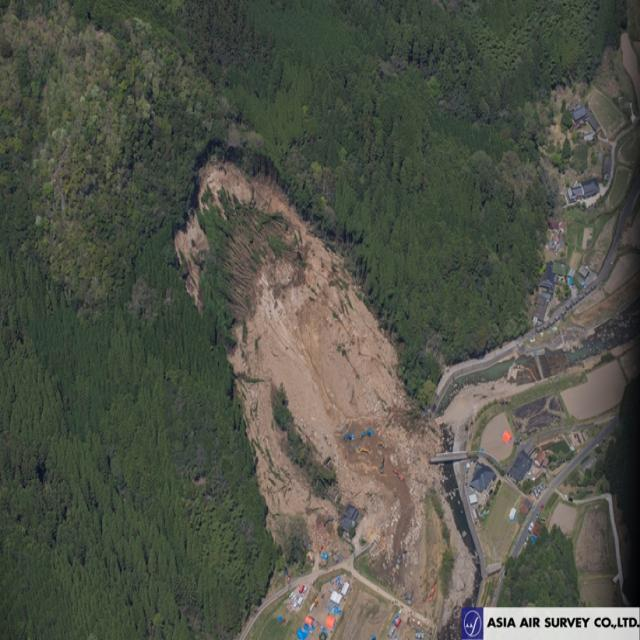Debris-flow: (201, 163, 439, 552), (175, 216, 209, 301)
